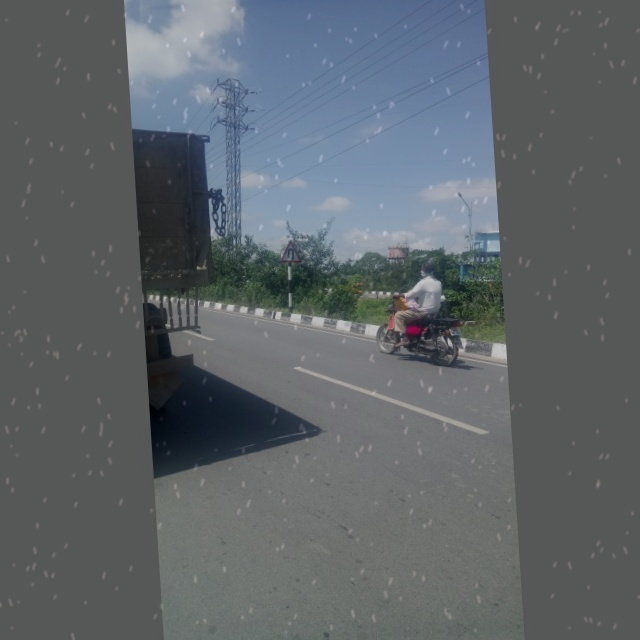U_Turn_Ahead: (274, 235, 308, 269)
